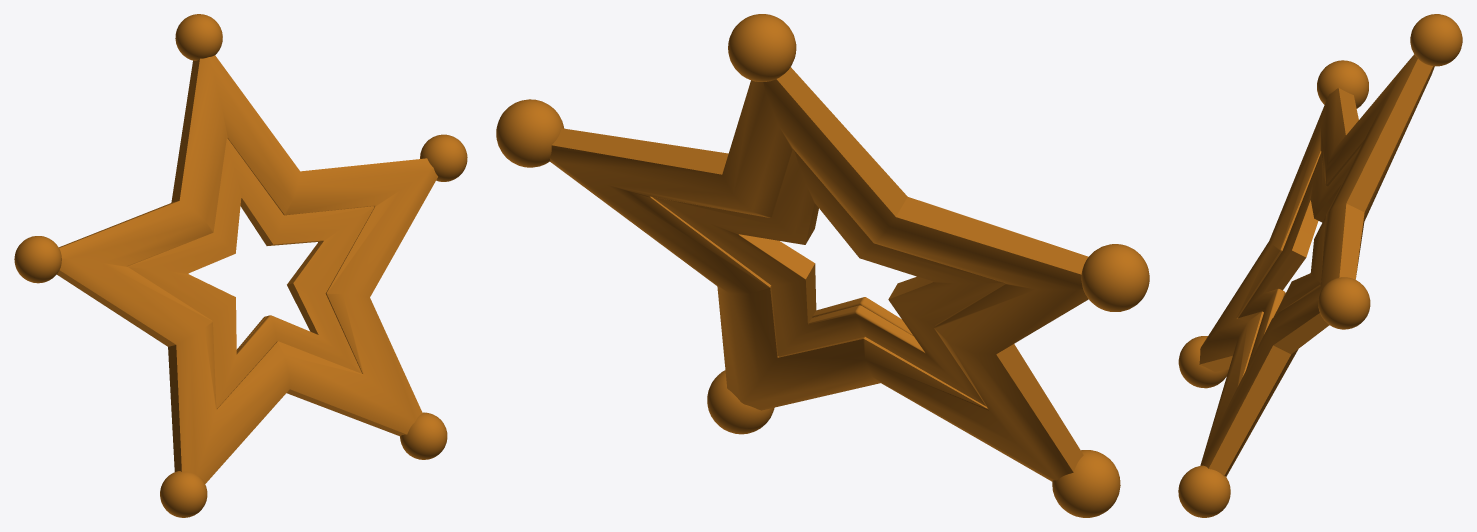
File: star_launch.glb
3 renders of one model, left to right at view 1: azimuth 30°, elevation 25°; view 2: azimuth 150°, elevation 25°; view 3: azimuth 270°, elevation 25°, orthographic. The views are drawn at different scales.
Parts seen in each view (by area): view 1: Circle.005, Circle.004, Sphere.004, Sphere.003, Sphere.007, Sphere.005, Sphere.006; view 2: Circle.005, Circle.004, Sphere.007, Sphere.004, Sphere.006, Sphere.003, Sphere.005; view 3: Circle.005, Circle.004, Sphere.006, Sphere.007, Sphere.005, Sphere.004, Sphere.003.
Boxes of the visible parts, x1=… form: Circle.005: x1=57, y1=55, x2=437, y2=483; Circle.004: x1=128, y1=138, x2=374, y2=408; Sphere.004: x1=14, y1=236, x2=61, y2=283; Sphere.003: x1=160, y1=471, x2=207, y2=517; Sphere.007: x1=175, y1=14, x2=222, y2=60; Sphere.005: x1=400, y1=412, x2=447, y2=459; Sphere.006: x1=420, y1=134, x2=467, y2=181; Circle.005: x1=549, y1=67, x2=1088, y2=481; Circle.004: x1=652, y1=149, x2=1005, y2=406; Sphere.007: x1=728, y1=14, x2=796, y2=81; Sphere.004: x1=1081, y1=244, x2=1149, y2=311; Sphere.006: x1=496, y1=99, x2=564, y2=167; Sphere.003: x1=1052, y1=450, x2=1120, y2=517; Sphere.005: x1=707, y1=370, x2=774, y2=434; Circle.005: x1=1199, y1=54, x2=1434, y2=476; Circle.004: x1=1238, y1=145, x2=1361, y2=369; Sphere.006: x1=1318, y1=277, x2=1370, y2=329; Sphere.007: x1=1410, y1=14, x2=1462, y2=66; Sphere.005: x1=1178, y1=465, x2=1230, y2=517; Sphere.004: x1=1317, y1=60, x2=1368, y2=108; Sphere.003: x1=1178, y1=336, x2=1228, y2=388.
Bounding box in the file's own units: 4.34 × 3.65 × 2.16.
